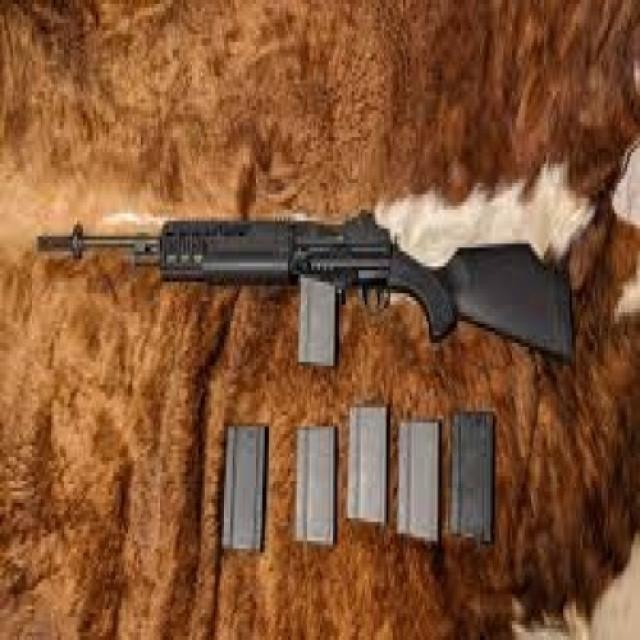Gun: (35, 198, 577, 382)
